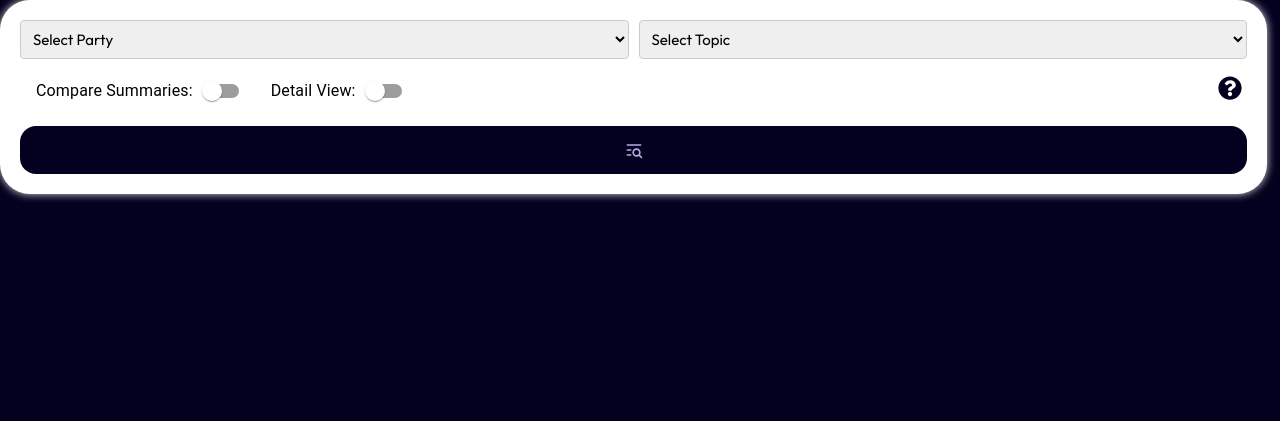
Searchbar - help popup › toggles the help popup open and closed
The width and height of the screenshot is (1280, 421).
Step 1. Click the button with class "help-button-desktop" → click(1230, 91), box left=1213, top=71, right=1247, bottom=111
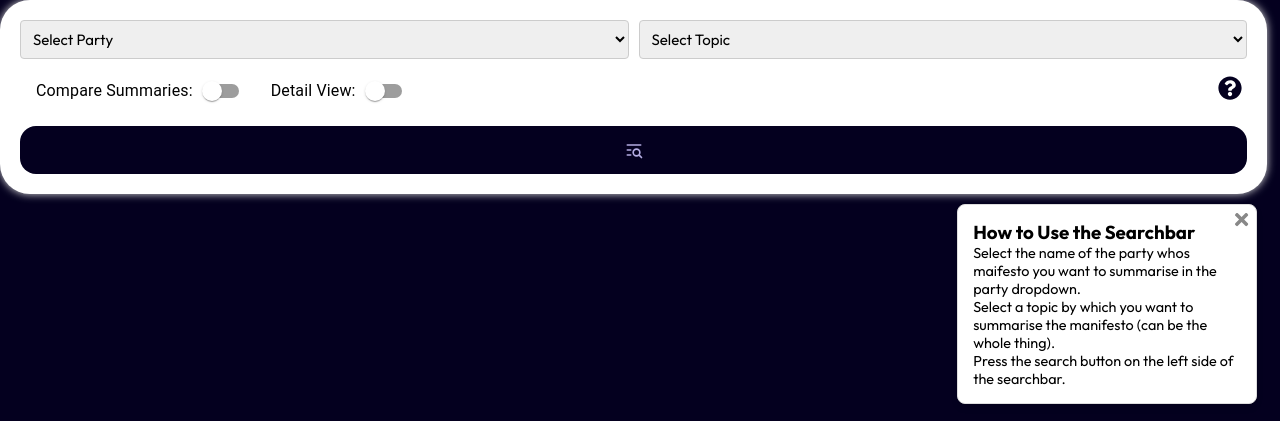
Result: the heading "How to Use the Searchbar" is shown at left=973, top=220, right=1195, bottom=244
Step 2. Click the button with class "close-button" → click(1242, 222), box left=1232, top=210, right=1251, bottom=234
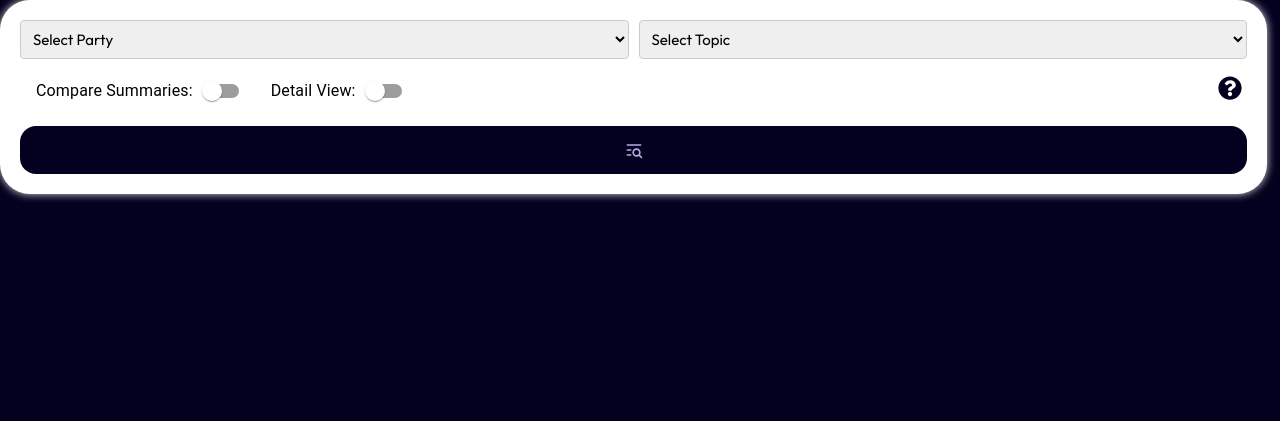
Result: the heading "How to Use the Searchbar" is gone
